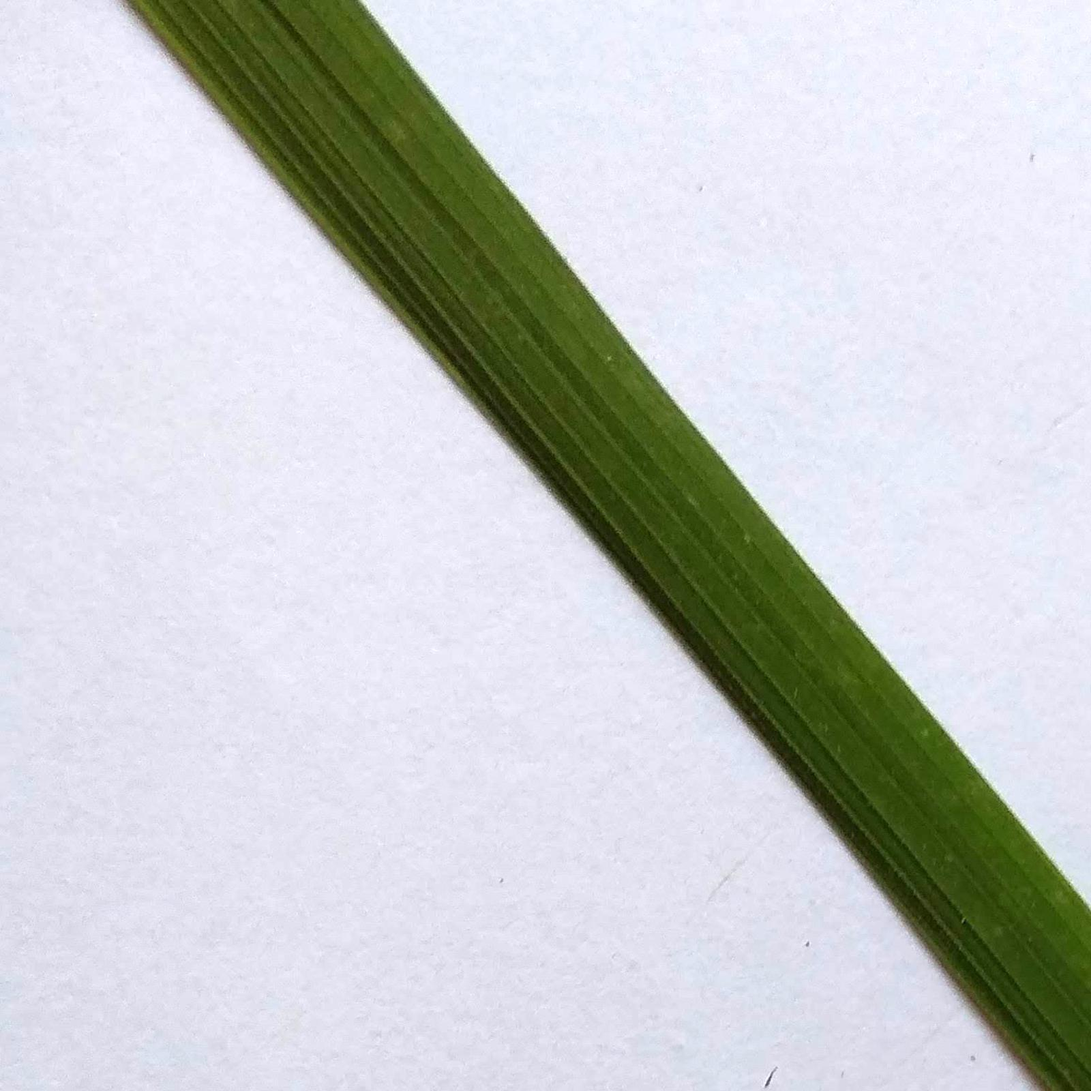Healthy: (136, 1, 1089, 1089)
